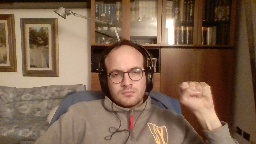Pugno: (175, 76, 217, 112)
